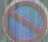No waiting: (4, 2, 47, 39)
